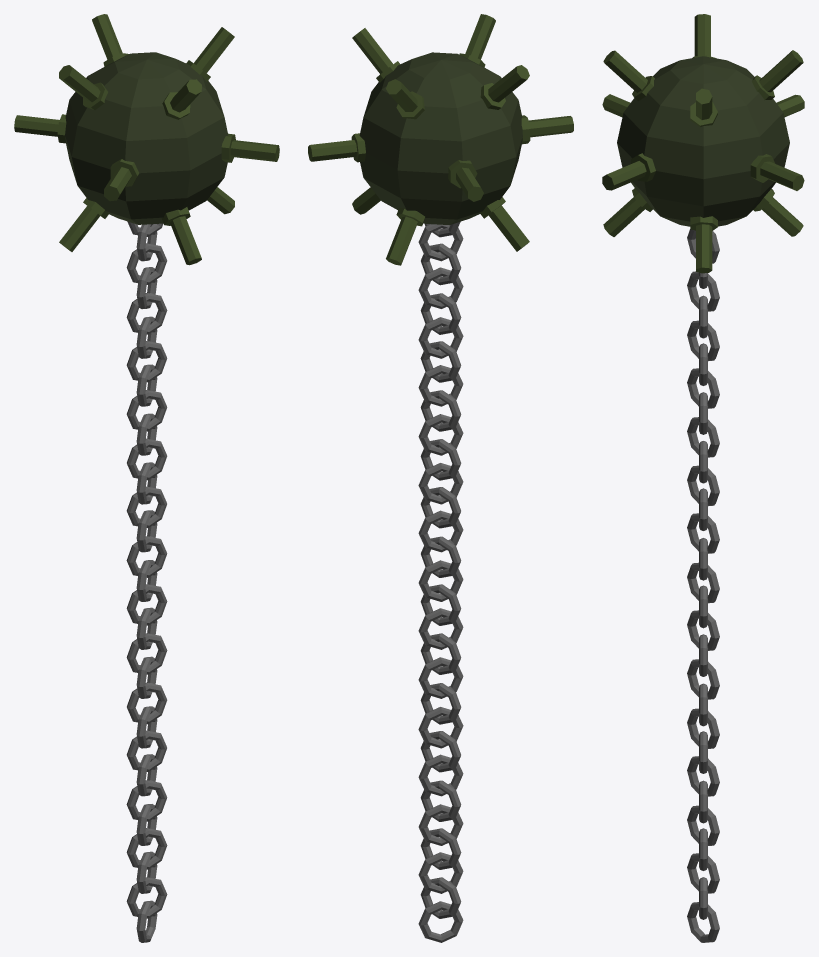
File: Long chain mine.fbx
3 renders of one model, left to right at view 1: azimuth 30°, elevation 25°; view 2: azimuth 150°, elevation 25°; view 3: azimuth 270°, elevation 25°, orthographic.
Parts seen in each view (by area): view 1: Long_chain_mine; view 2: Long_chain_mine; view 3: Long_chain_mine.
Boxes of the visible parts, x1,y1,x2,y2 form: Long_chain_mine: (14,14,279,942); Long_chain_mine: (308,14,573,942); Long_chain_mine: (602,14,804,942).
Bounding box in the file's own units: 52.45 × 255 × 52.45.
